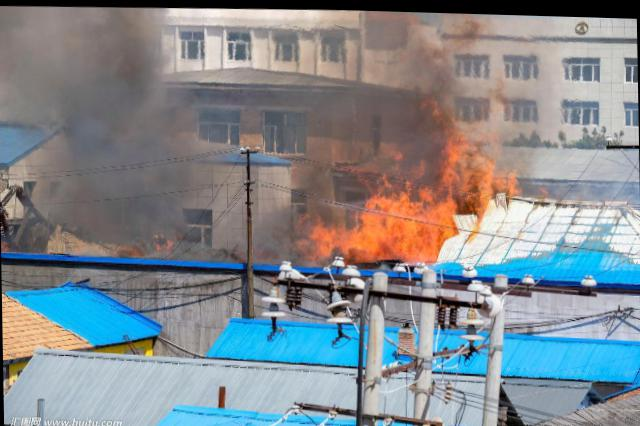fire: (296, 212, 438, 260), (362, 182, 456, 217), (436, 133, 472, 182), (376, 158, 424, 184), (473, 163, 492, 206), (494, 168, 522, 191), (456, 182, 476, 207), (114, 243, 141, 256), (438, 212, 454, 233), (154, 237, 174, 249)
